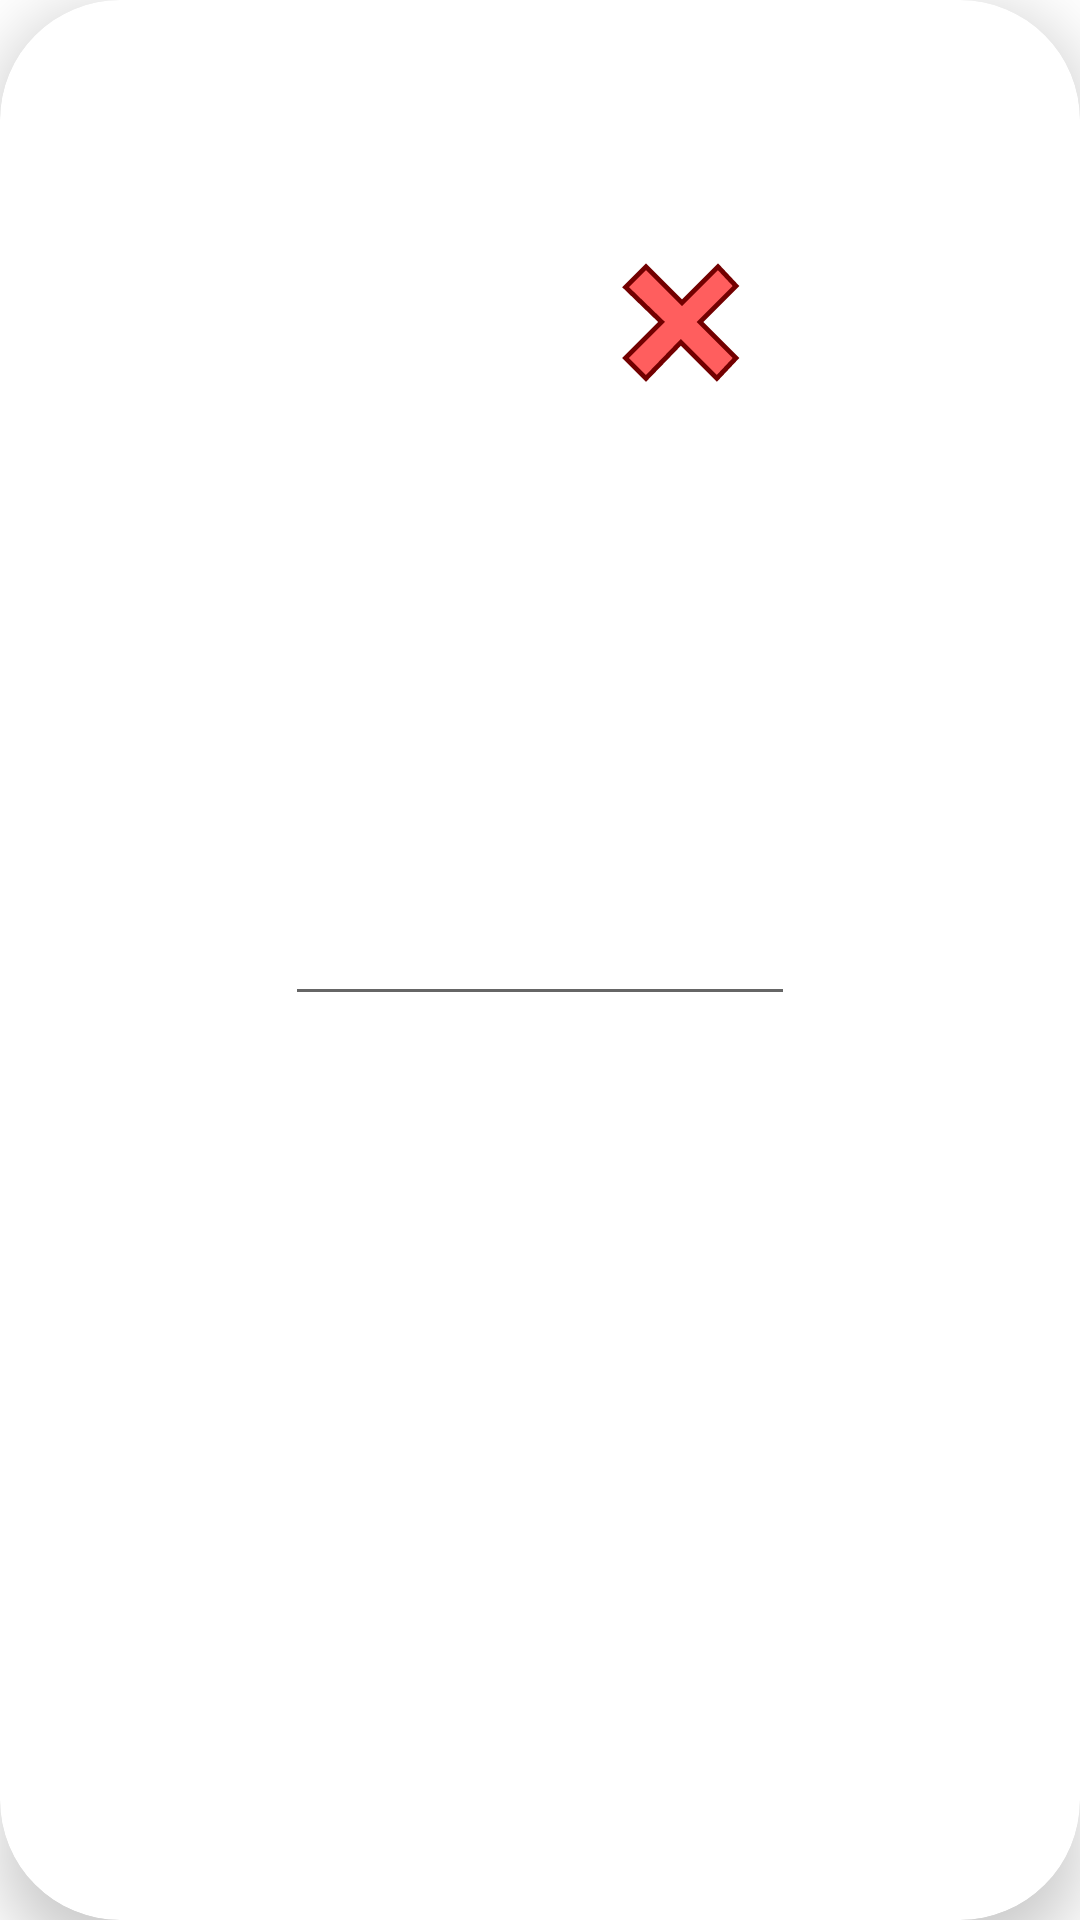

Icon bounding boxes for this 1080×1920 phone screenshot, format detection(x1, y1, x2, y2):
cancel: detection(622, 263, 739, 382)
